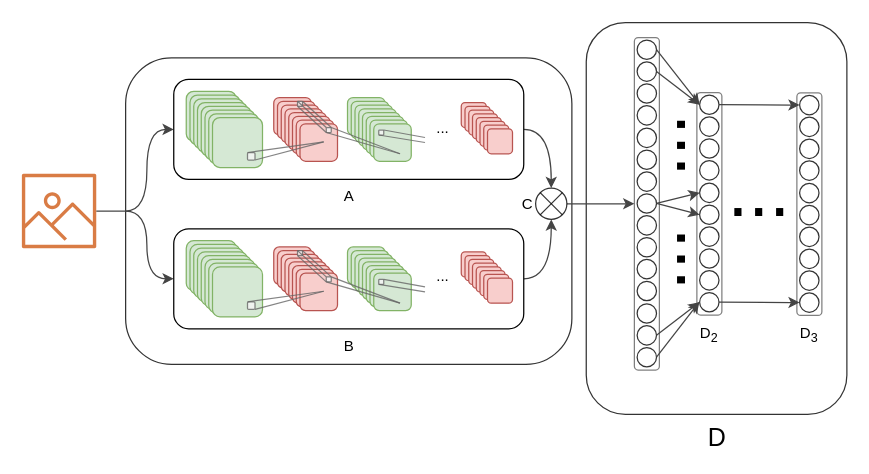
This 869x474 diagram has some shape labels left out. Each missing label, with the box of its shape:
D 1: (633, 36, 659, 370)
M 1: (124, 57, 572, 364)
